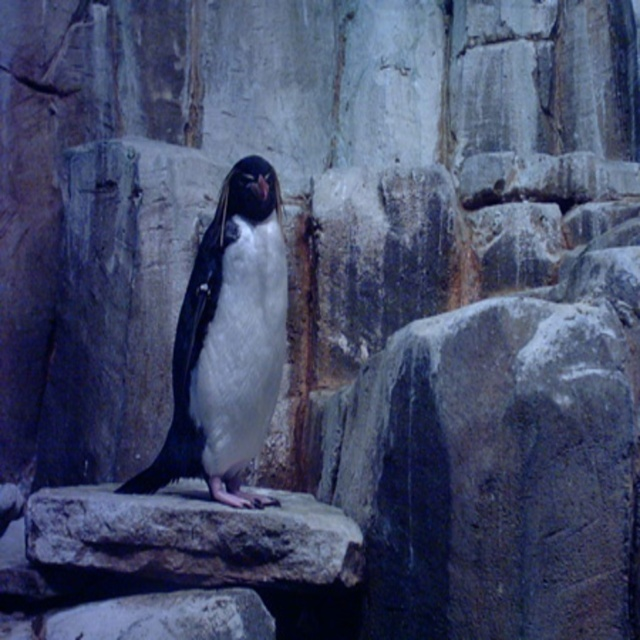Penguin: (114, 157, 276, 513)
